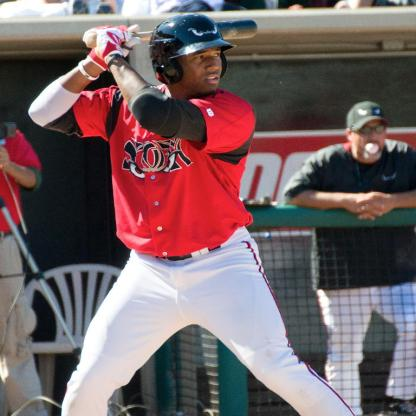Helmet: (150, 13, 237, 84)
